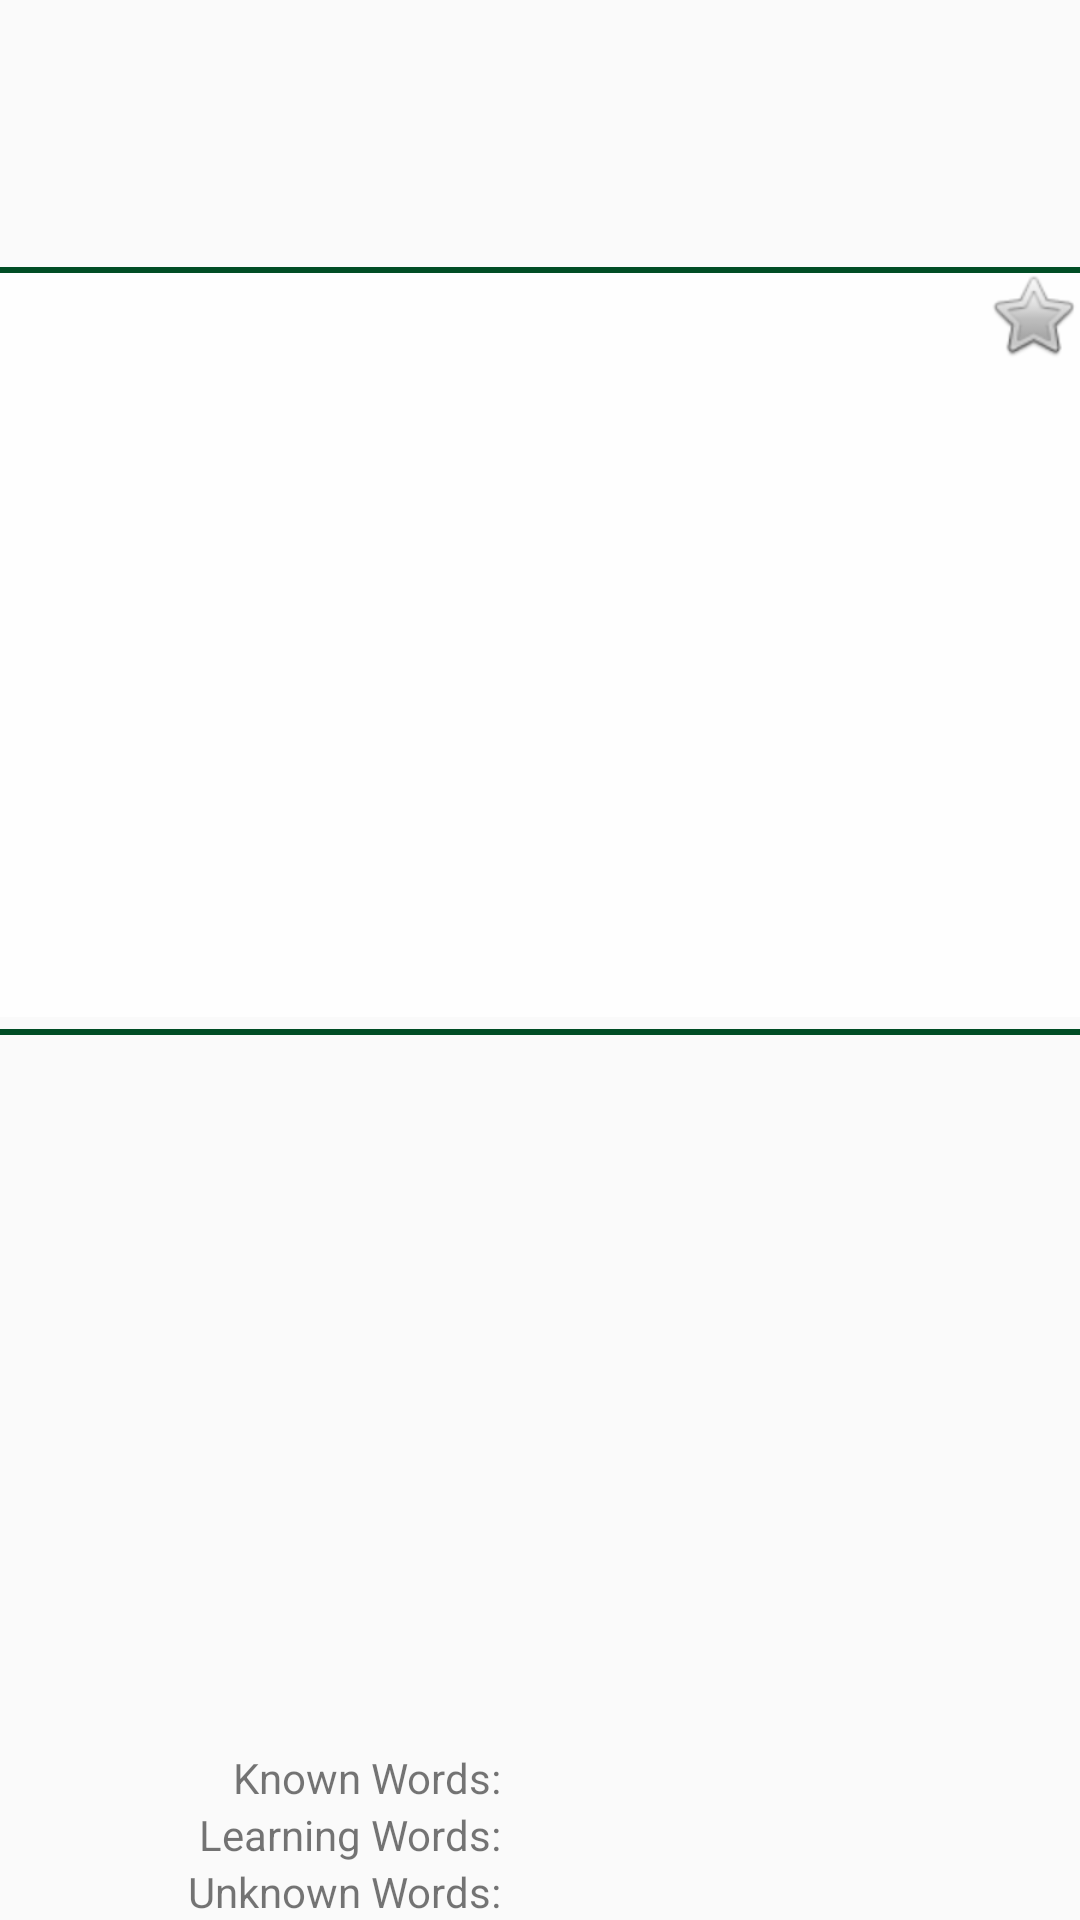

Named icons in this screenshot (1080px x 1920px) and their bounding boxes, [x1=x1, y1=y1, x2=x2, y2=y2]:
star off: [x1=994, y1=277, x2=1074, y2=355]
